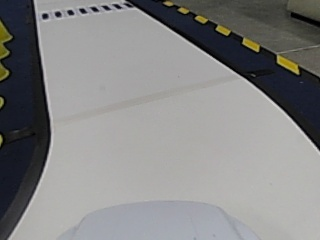crosswalk: (39, 2, 132, 19)
